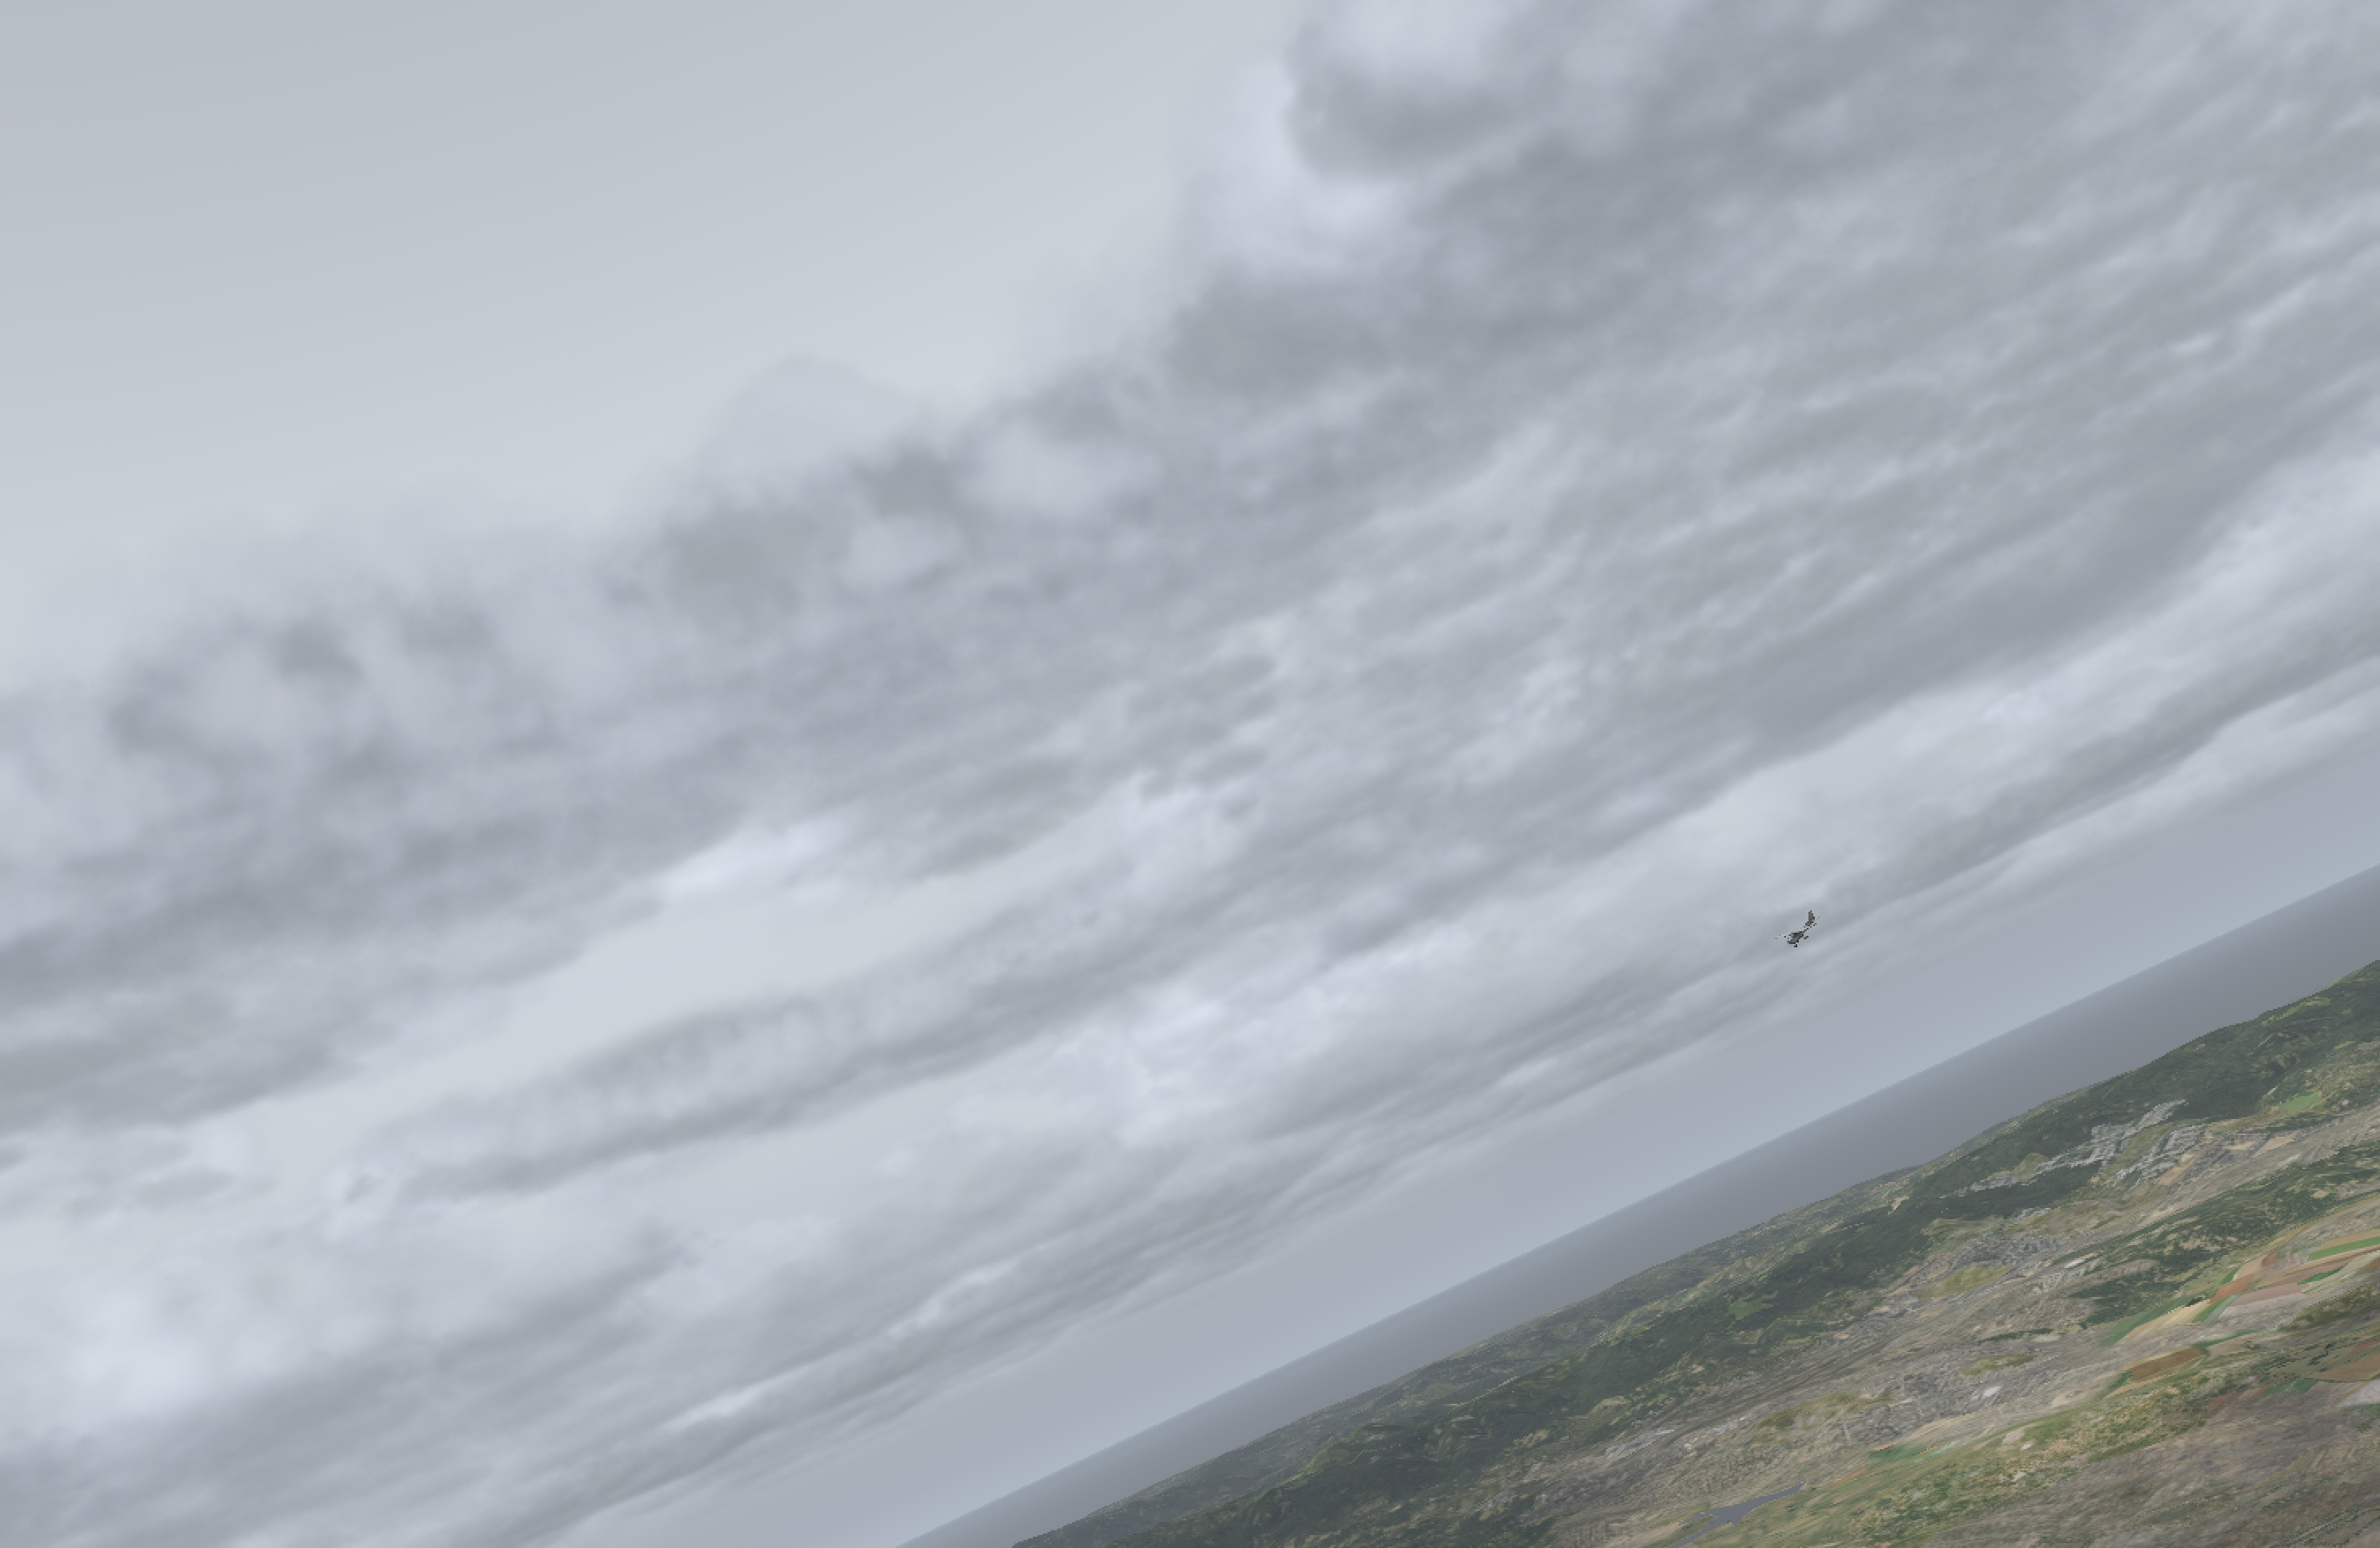aircraft: (1775, 927, 1818, 944)
